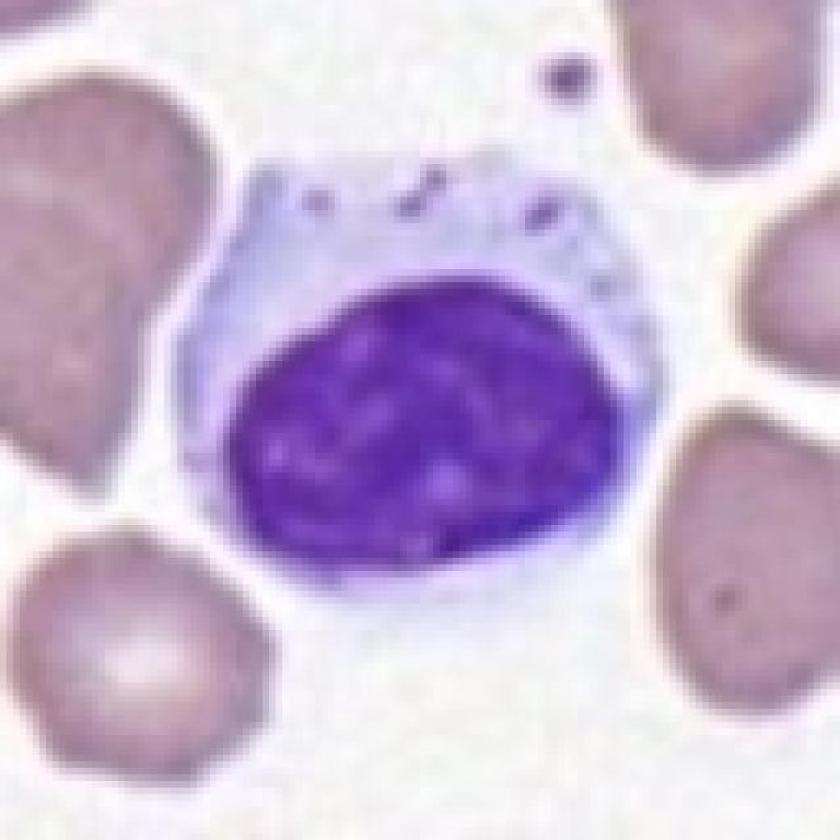lymphocyte: (165, 135, 677, 627)
